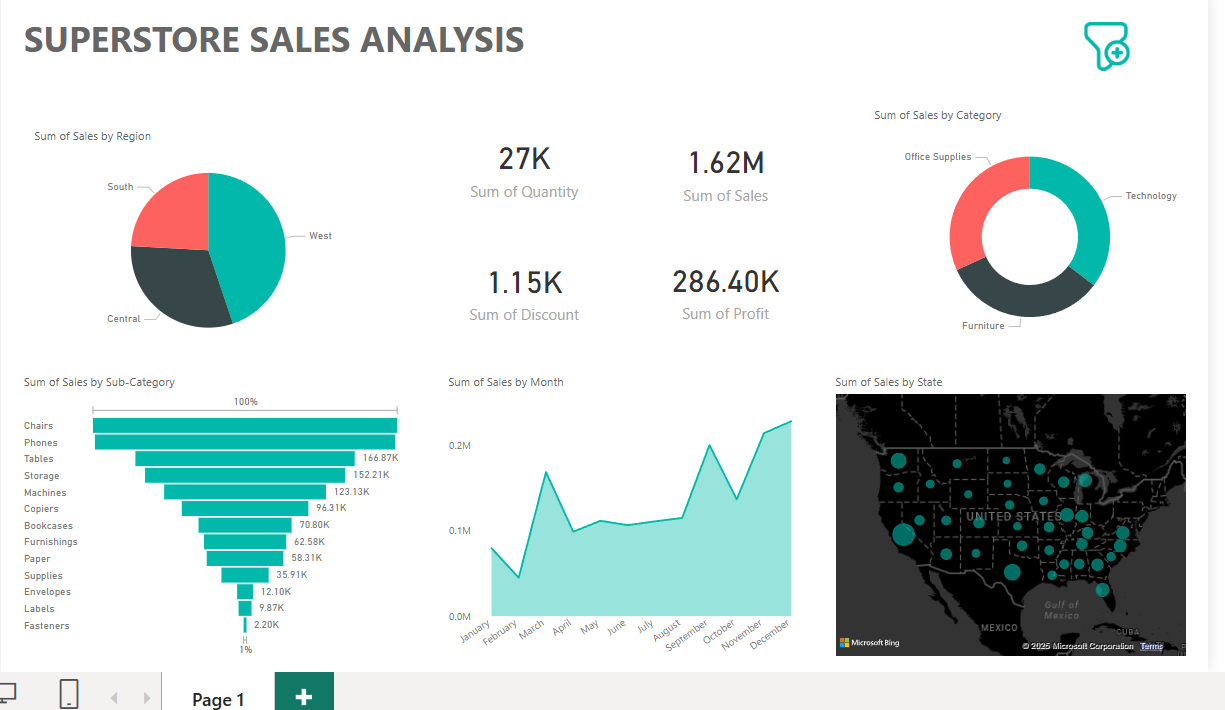

The page's visual inventory and layout, read from the dashboard file:
{"tool":"powerbi","page":{"name":"Page 1","canvas":[1280,720],"ordinal":0},"visuals":[{"type":"funnel","fields":{"Y":["Sum(Orders.Sales)"],"Category":["Orders.Sub-Category"]},"box":[19.4,404.8,411.3,304.4],"z":1000},{"type":"pieChart","fields":{"Y":["Sum(Orders.Sales)"],"Category":["Orders.Region"]},"box":[30.8,142.5,378.9,242.9],"z":2000},{"type":"donutChart","fields":{"Y":["Sum(Orders.Sales)"],"Category":["Orders.Category"]},"box":[921.3,121.4,340,259.1],"z":3000},{"type":"areaChart","fields":{"Category":["Orders.Order Date.Variation.Date Hierarchy.Month","Orders.Order Date.Variation.Date Hierarchy.Day"],"Y":["Sum(Orders.Sales)"]},"box":[469.6,404.8,385.4,307.7],"z":4000},{"type":"image","box":[1125.4,25.9,93.9,62],"z":5000},{"type":"card","fields":{"Values":["Sum(Orders.Sales)"]},"box":[680.1,123.1,174.9,129.5],"z":6000},{"type":"textbox","box":[19.4,17.8,731.9,69.6],"z":7000},{"type":"card","fields":{"Values":["Sum(Orders.Quantity)"]},"box":[485.8,123.1,139.3,121.4],"z":8000},{"type":"card","fields":{"Values":["Sum(Orders1.Profit)"]},"box":[659,260.7,220.2,105.2],"z":9000},{"type":"card","fields":{"Values":["Sum(Orders.Discount)"]},"box":[474.4,263.9,161.9,100.4],"z":10000},{"type":"lineStackedColumnComboChart","fields":{"Category":["Orders.State"],"Y":["Sum(Orders.Sales)"]},"box":[879.2,404.8,382.1,304.4],"z":12000}]}

Visuals, with their boxes on the page's 1280x720 design canvas (x1, y1, x2, y2). These are canvas units, not pixel positions in the 1225x710 screenshot, which may show the page scaled, cropped or inside an application window:
funnel - Sum(Orders.Sales) x Orders.Sub-Category: (left=19, top=405, right=431, bottom=709)
pieChart - Sum(Orders.Sales) x Orders.Region: (left=31, top=142, right=410, bottom=385)
donutChart - Sum(Orders.Sales) x Orders.Category: (left=921, top=121, right=1261, bottom=380)
areaChart - Orders.Order Date.Variation.Date Hierarchy.Month x Orders.Order Date.Variation.Date Hierarchy.Day: (left=470, top=405, right=855, bottom=712)
image: (left=1125, top=26, right=1219, bottom=88)
card - Sum(Orders.Sales): (left=680, top=123, right=855, bottom=253)
textbox: (left=19, top=18, right=751, bottom=87)
card - Sum(Orders.Quantity): (left=486, top=123, right=625, bottom=244)
card - Sum(Orders1.Profit): (left=659, top=261, right=879, bottom=366)
card - Sum(Orders.Discount): (left=474, top=264, right=636, bottom=364)
lineStackedColumnComboChart - Orders.State x Sum(Orders.Sales): (left=879, top=405, right=1261, bottom=709)
